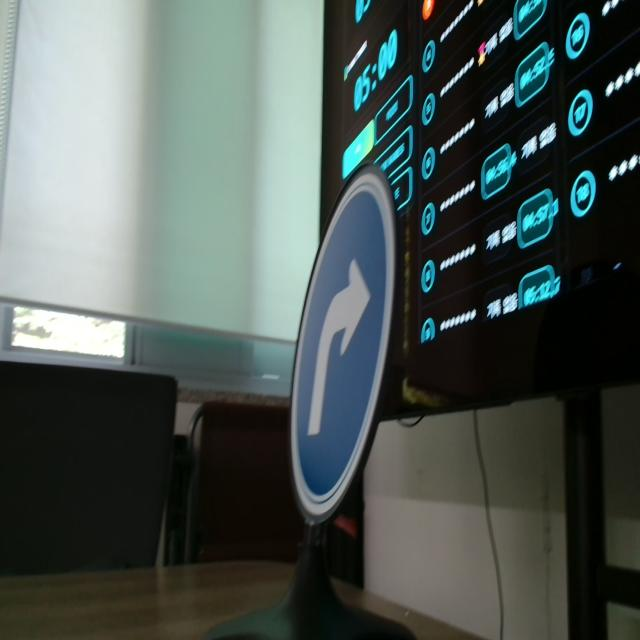right_dierection: (284, 161, 430, 575)
